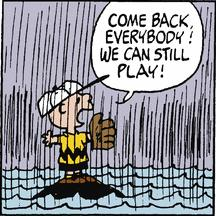charlie: (36, 80, 117, 184)
